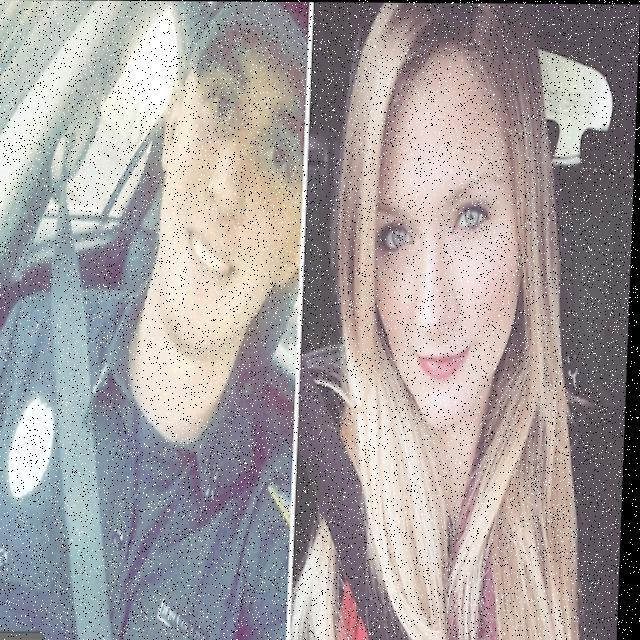seatbelt: (0, 134, 272, 636), (296, 241, 508, 640)
